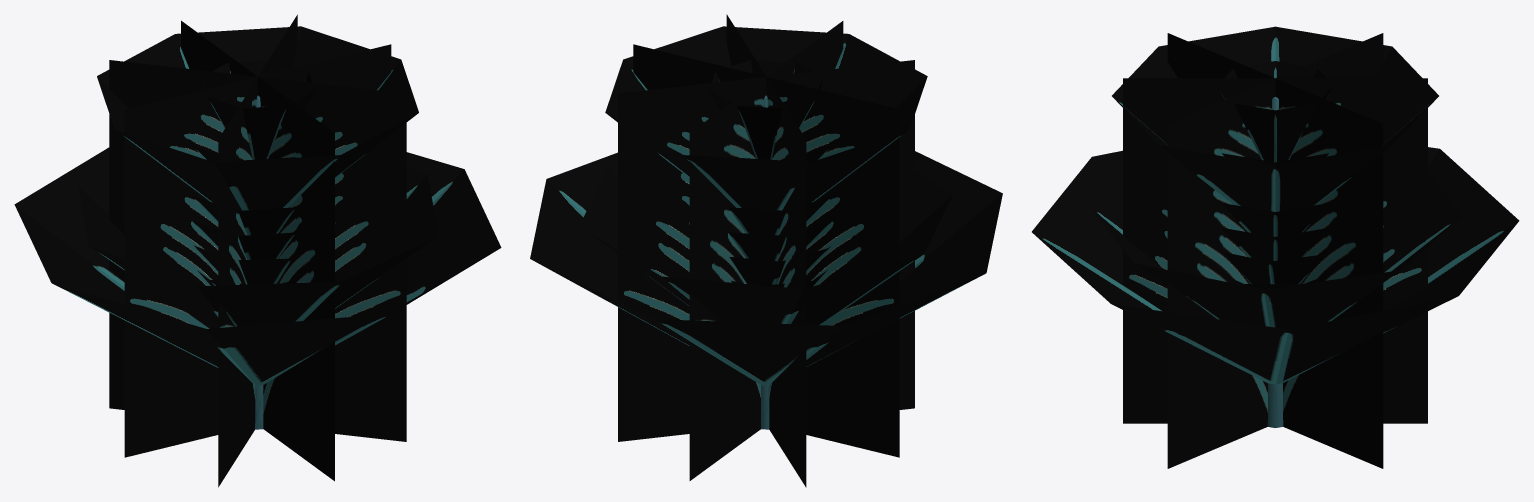
Rendered from ContraC1Plant.fbx.
The picture shows the model from 3 angles, left to right: view 1: azimuth 30°, elevation 25°; view 2: azimuth 150°, elevation 25°; view 3: azimuth 270°, elevation 25°; orthographic projection.
Parts seen in each view (by area): view 1: ContraC1Plant; view 2: ContraC1Plant; view 3: ContraC1Plant.
Boxes of the visible parts, bbox=[...] form: ContraC1Plant: bbox=[14, 14, 501, 487]; ContraC1Plant: bbox=[530, 14, 1002, 487]; ContraC1Plant: bbox=[1032, 26, 1519, 468].
Size of the model in its own units: 122 by 94.82 by 122.
Materials: 1 (1 with a texture image).
